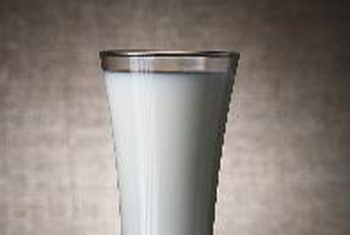glass of milk: (115, 47, 216, 228)
